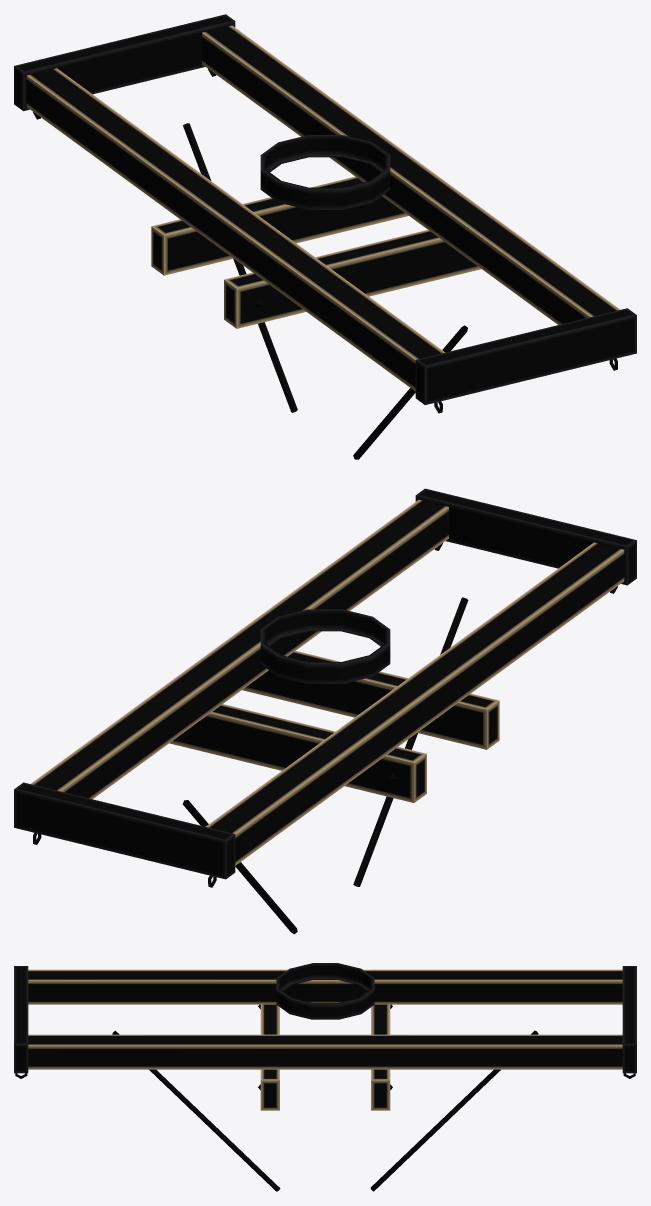
The model's file is crosstree_20.glb.
3 renders of one model, top to bottom at view 1: azimuth 30°, elevation 25°; view 2: azimuth 150°, elevation 25°; view 3: azimuth 270°, elevation 25°, orthographic. The views are drawn at different scales.
Parts seen in each view (by area): view 1: timber, iron; view 2: timber, iron; view 3: timber, iron.
Boxes of the visible parts, <box> form: timber: <box>26,25,620,391</box>; iron: <box>14,14,636,459</box>; timber: <box>31,499,624,865</box>; iron: <box>14,488,636,934</box>; timber: <box>28,969,622,1110</box>; iron: <box>14,963,636,1191</box>.
Size of the model in its own units: 0.96 by 0.9558 by 2.6.
